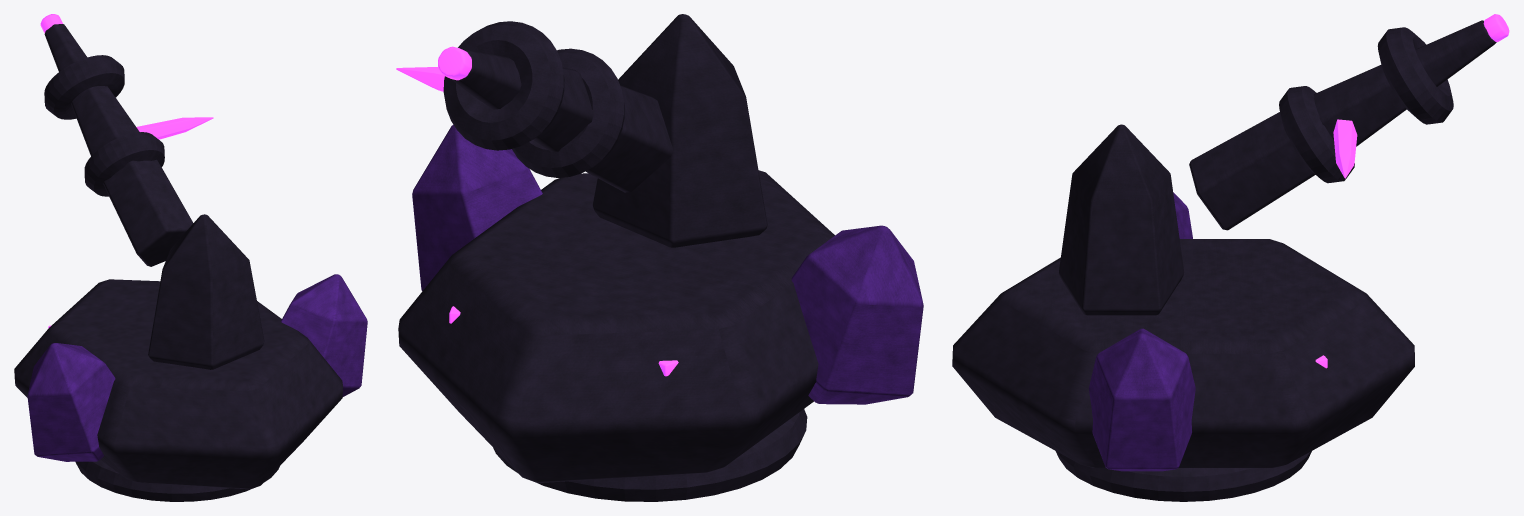
File: conclave_aiguille.gltf
The picture shows the model from 3 angles, left to right: view 1: azimuth 30°, elevation 25°; view 2: azimuth 150°, elevation 25°; view 3: azimuth 270°, elevation 25°; orthographic projection. The views are drawn at different scales.
Parts seen in each view (by area): view 1: Body.001_Geometry, GunRecoil.001_Geometry, TurretYaw.001_Geometry; view 2: Body.001_Geometry, GunRecoil.001_Geometry, TurretYaw.001_Geometry; view 3: Body.001_Geometry, GunRecoil.001_Geometry, TurretYaw.001_Geometry.
Part boxes in pixels (left/top/right/bottom): Body.001_Geometry: left=14, top=274, right=367, bottom=501; GunRecoil.001_Geometry: left=40, top=14, right=213, bottom=266; TurretYaw.001_Geometry: left=148, top=214, right=264, bottom=369; Body.001_Geometry: left=398, top=124, right=923, bottom=501; GunRecoil.001_Geometry: left=396, top=21, right=672, bottom=192; TurretYaw.001_Geometry: left=592, top=14, right=767, bottom=247; Body.001_Geometry: left=952, top=192, right=1414, bottom=501; GunRecoil.001_Geometry: left=1189, top=14, right=1509, bottom=230; TurretYaw.001_Geometry: left=1059, top=124, right=1183, bottom=315.
Bounding box in the file's own units: 1.8 × 1.86 × 2.15.
Materials: 3 (2 with a texture image).
